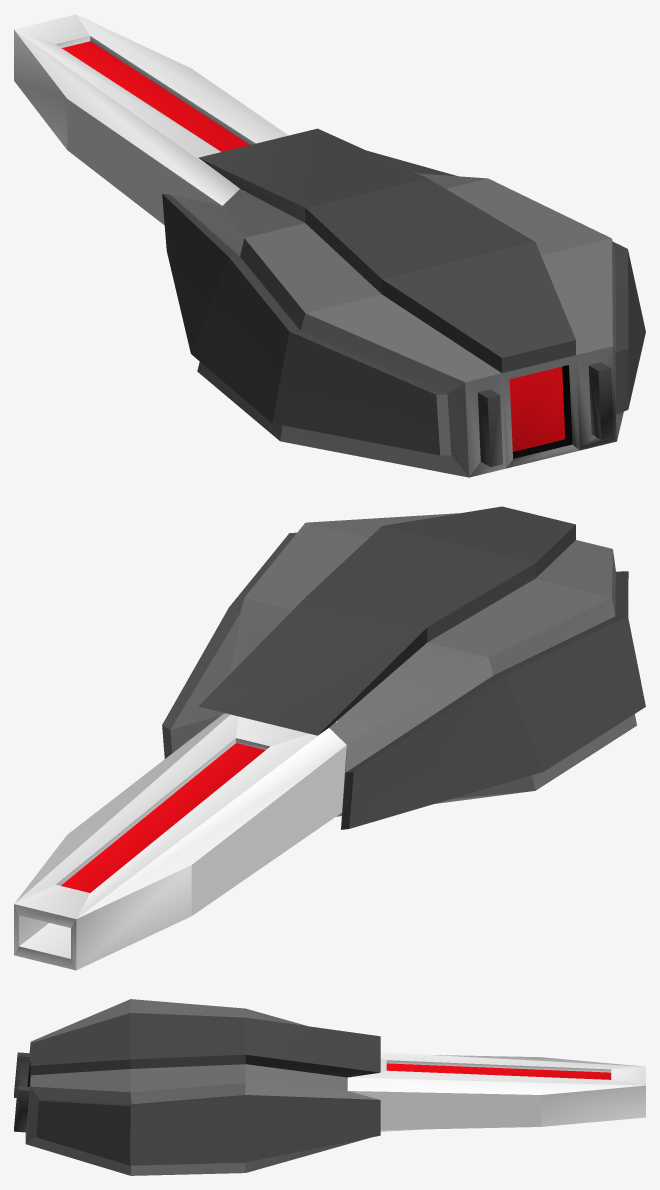
The model's file is Rail4.fbx.
3 views of the same model, one above another, from view 1: azimuth 30°, elevation 25°; view 2: azimuth 150°, elevation 25°; view 3: azimuth 270°, elevation 25° (orthographic). The views are drawn at different scales.
Visible parts, largest first — view 1: Cube.003; view 2: Cube.003; view 3: Cube.003.
Boxes of the visible parts, x1=… form: Cube.003: x1=14, y1=14, x2=645, y2=477; Cube.003: x1=14, y1=506, x2=645, y2=970; Cube.003: x1=14, y1=999, x2=645, y2=1175.
Bounding box in the file's own units: 153 × 53.83 × 360.
1 material, 1 textured.
